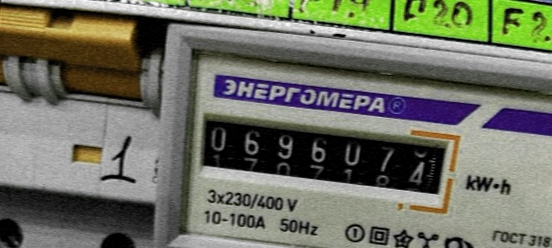0: (206, 122, 230, 152), (342, 136, 364, 167), (242, 126, 262, 154)
4: (406, 157, 426, 187)
6: (307, 132, 329, 163)
7: (375, 141, 396, 172)
9: (275, 129, 296, 159)
screen: (181, 97, 463, 214)
